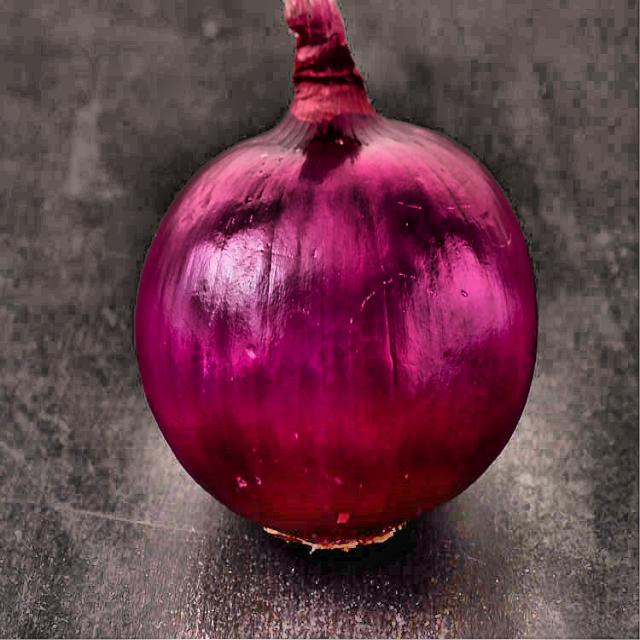onion: (33, 14, 585, 600)
